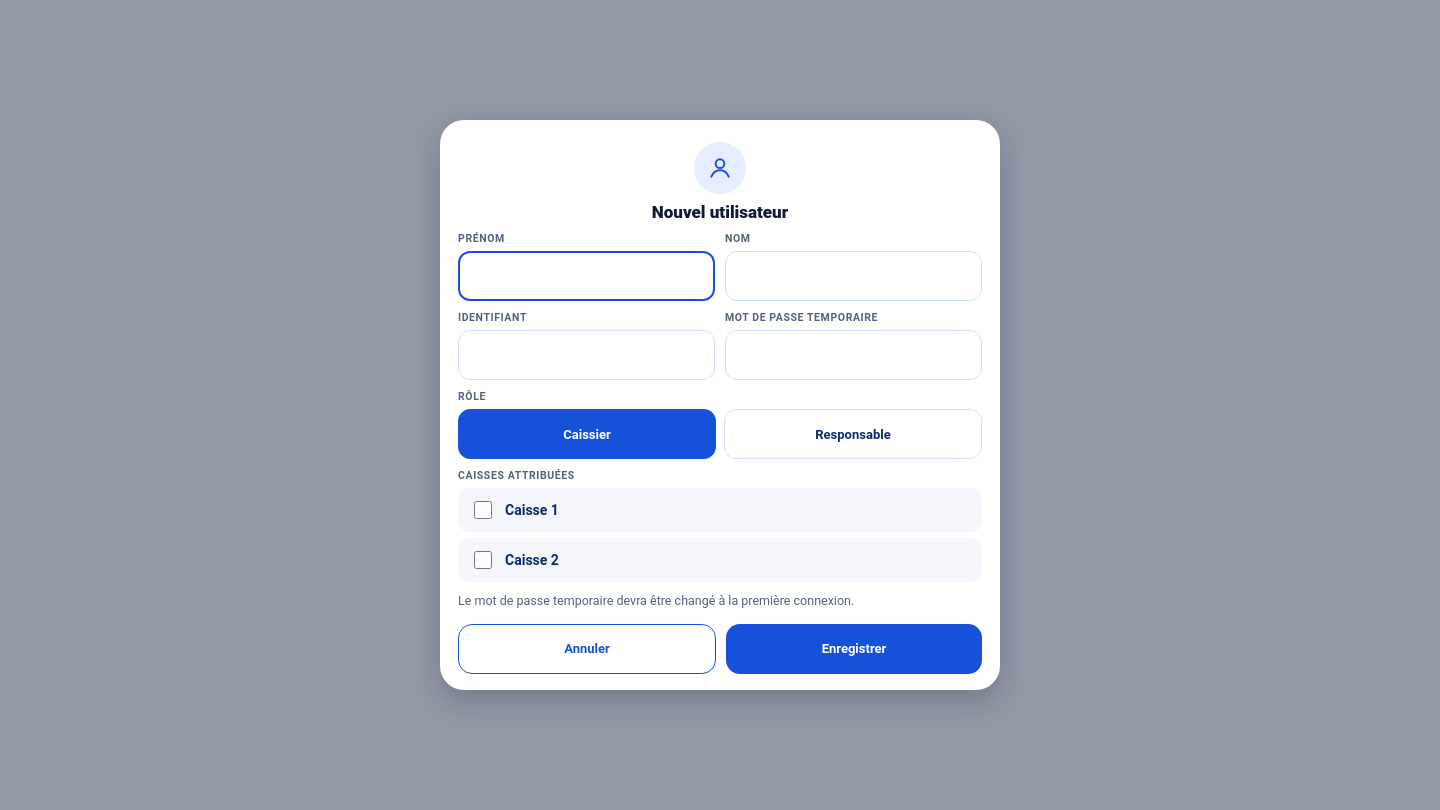
it: UtilisateurDialogue › affiche le refus du serveur et garde la popup ouverte
This screenshot has width=1440, height=810.
Type "Alaoui" into the field labelled "Nom". click: [854, 276]
box: x1=725 y1=251 x2=982 y2=301
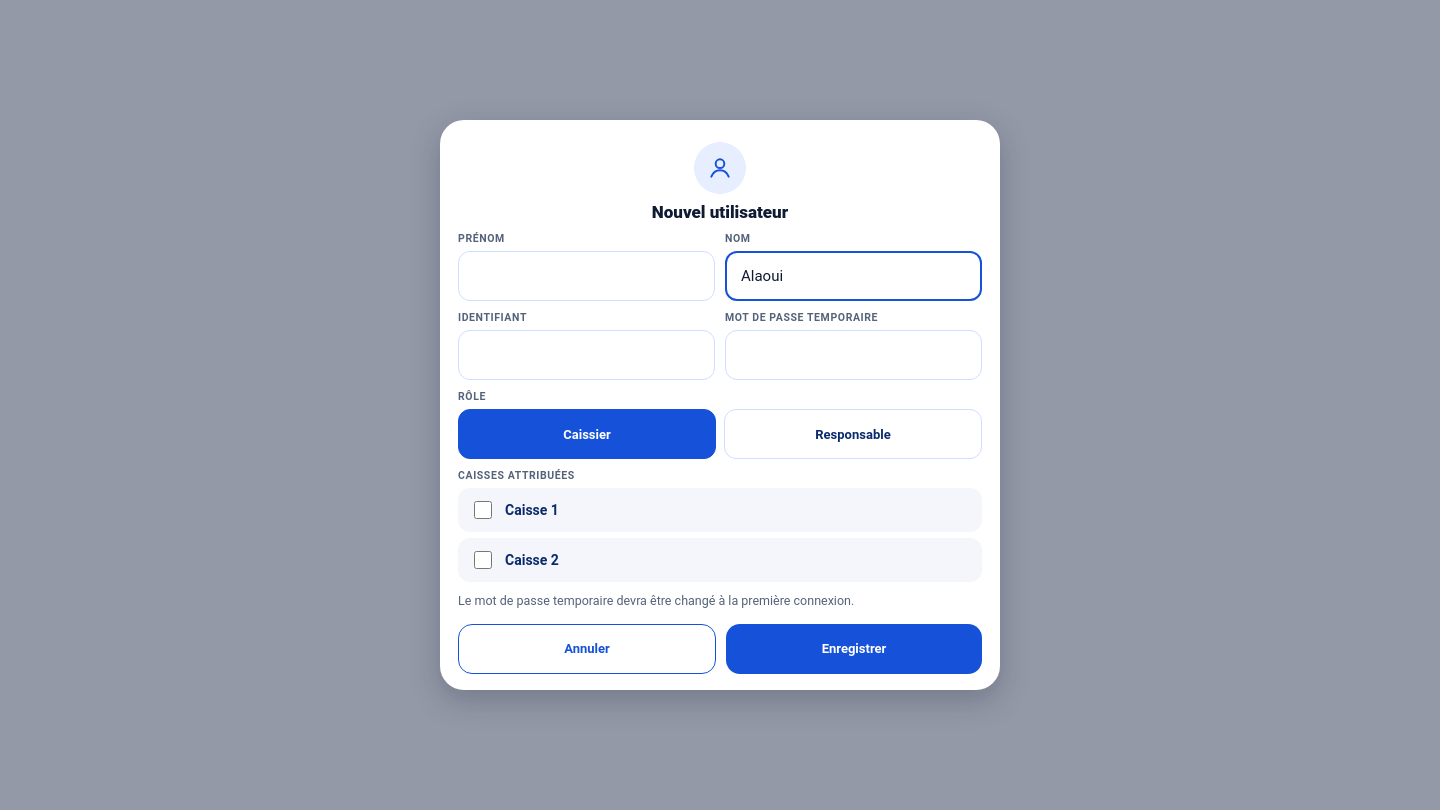
Type "karim" into the field labelled "Identifiant". click: [586, 355]
box: x1=458 y1=330 x2=715 y2=380
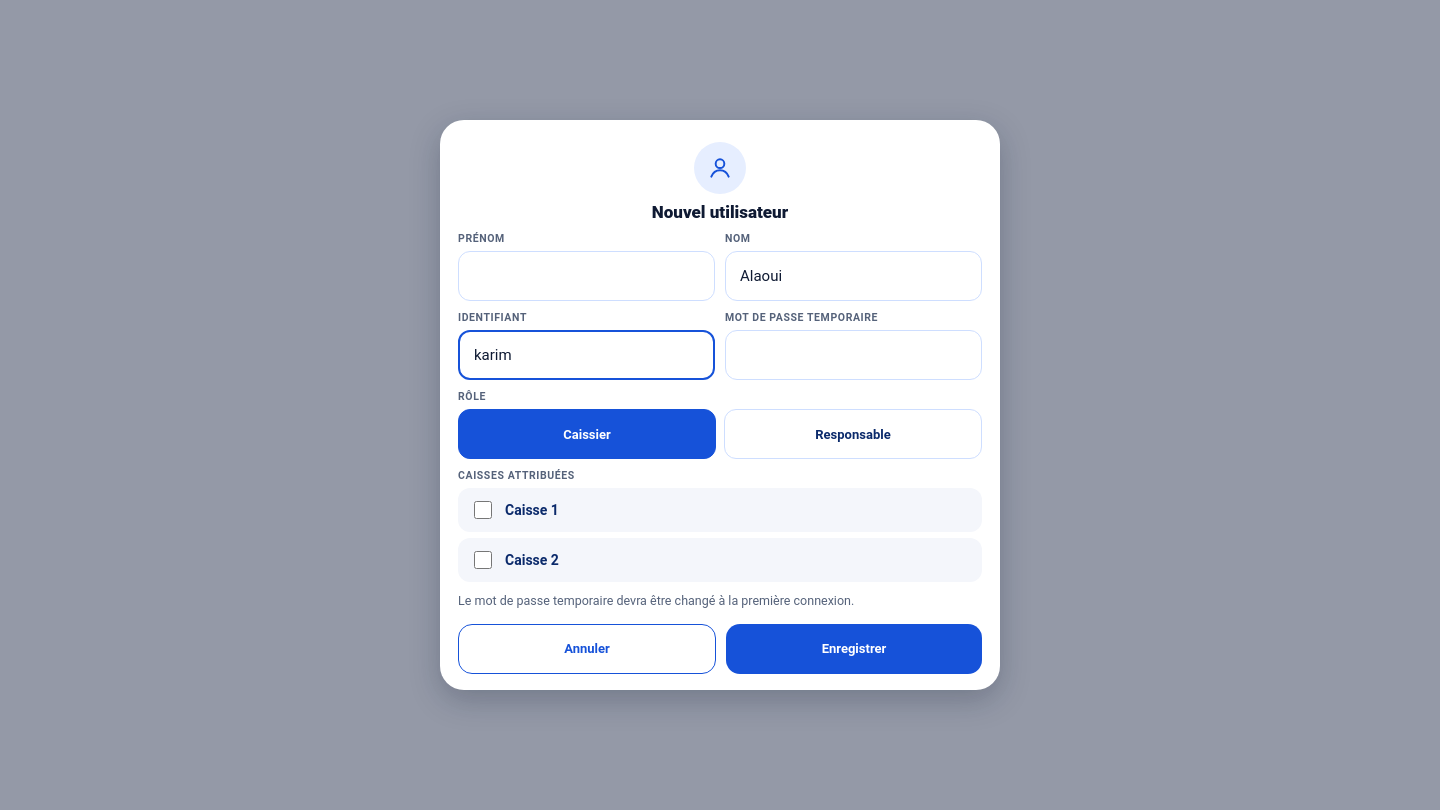
Type "Temporaire-2026" into the password field labelled "Mot de passe temporaire". click: [854, 355]
box: x1=725 y1=330 x2=982 y2=380
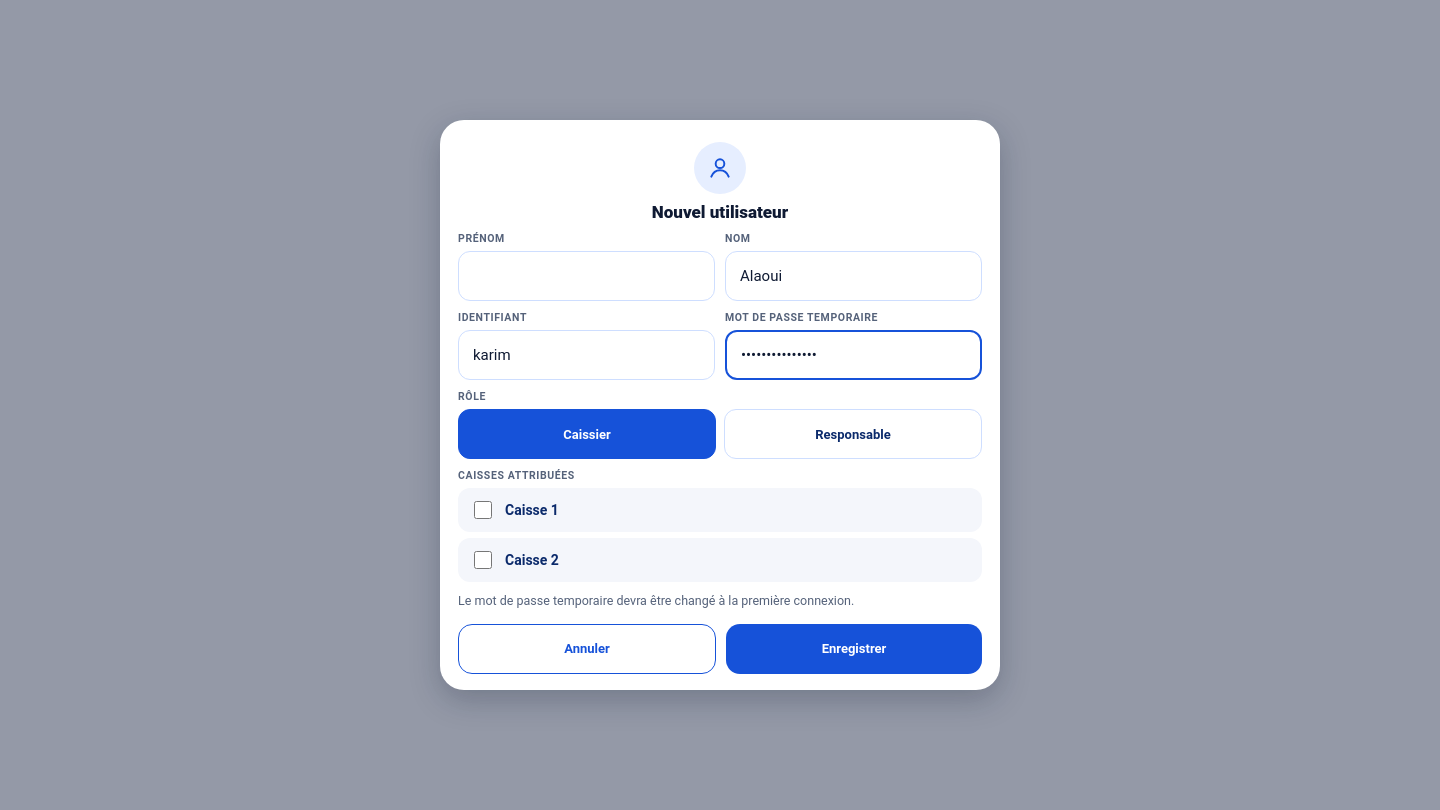
Click the button "Enregistrer". click: [854, 649]
box: x1=726 y1=624 x2=982 y2=674
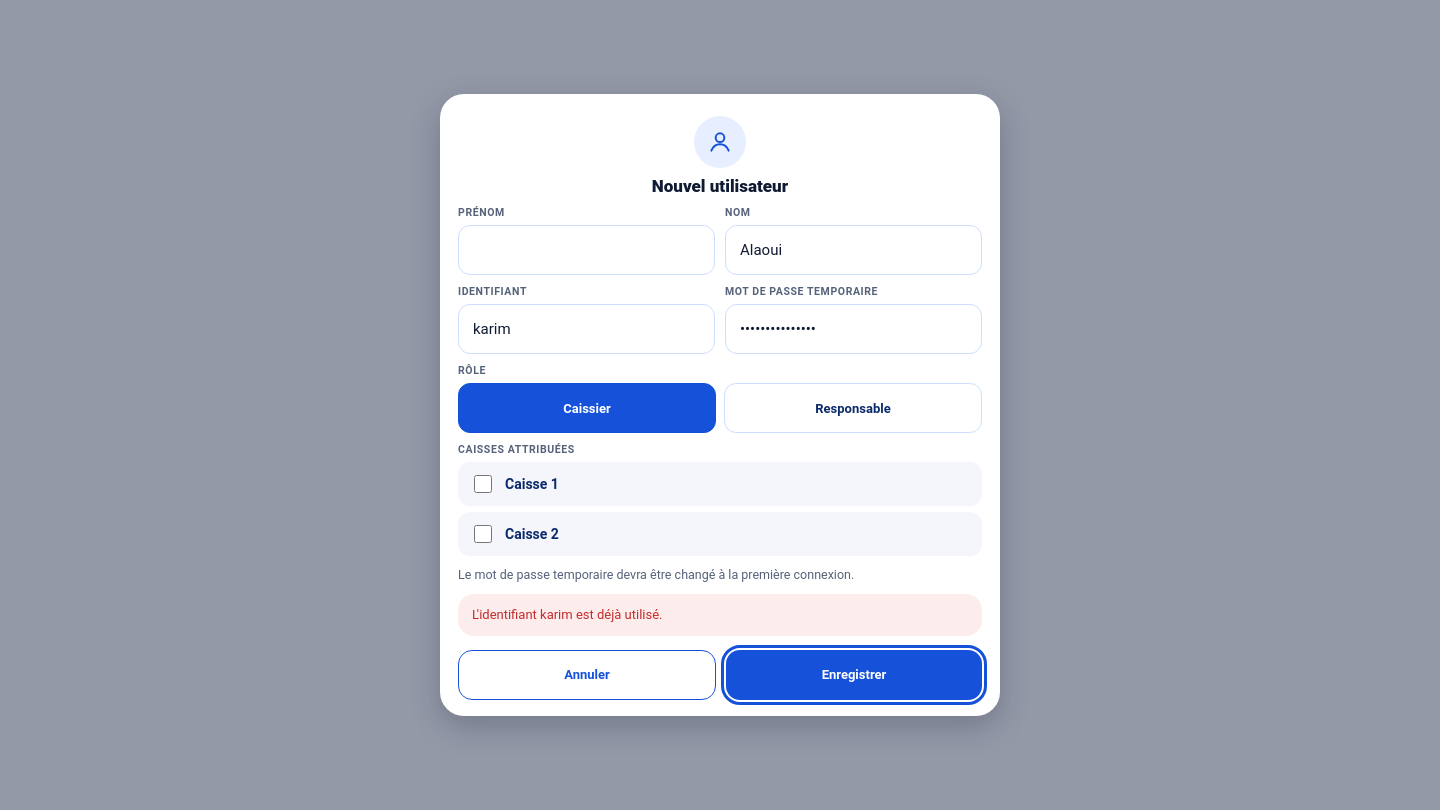
Check: the message reads "L'identifiant karim est déjà utilisé.", box x1=472 y1=607 x2=663 y2=622
